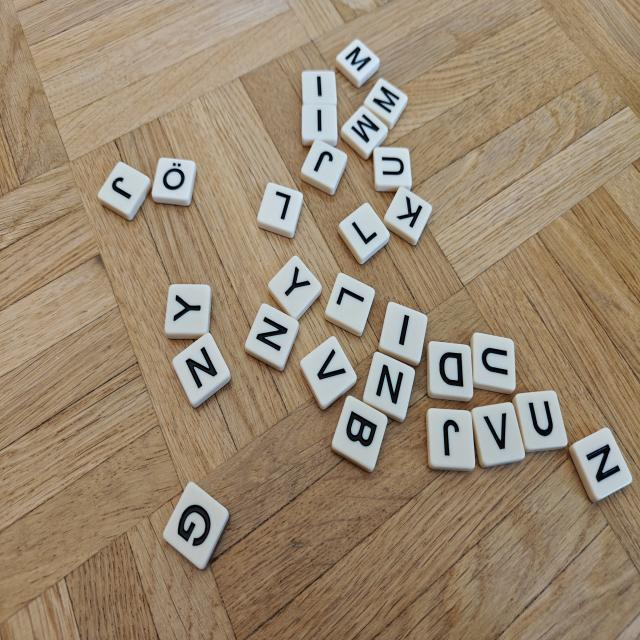b: (332, 396, 387, 472)
d: (428, 341, 473, 401)
g: (163, 482, 229, 569)
i: (379, 301, 428, 366), (301, 104, 338, 146), (302, 70, 337, 106)
j: (98, 161, 151, 220), (426, 408, 475, 471), (301, 140, 347, 195)
k: (383, 187, 432, 245)
l: (325, 273, 375, 336), (339, 203, 390, 264), (257, 183, 302, 237)
m: (341, 106, 388, 159), (364, 78, 408, 129), (336, 39, 380, 87)
n: (569, 428, 632, 501), (172, 333, 230, 407), (363, 352, 415, 422), (245, 304, 299, 371)
o_dot: (151, 158, 196, 206)
u: (513, 390, 567, 452), (471, 333, 516, 393), (373, 147, 412, 191)
v: (300, 336, 357, 410), (471, 402, 525, 467)
y: (268, 256, 322, 320), (165, 284, 211, 338)
